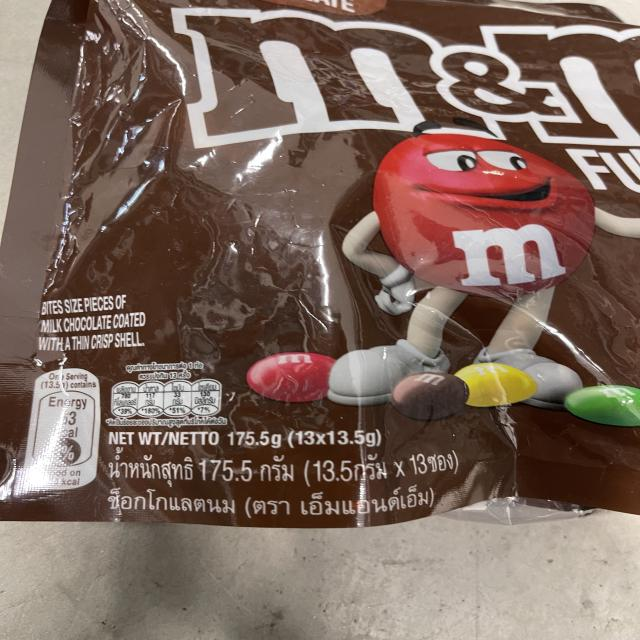object_name: (19, 5, 640, 513)
